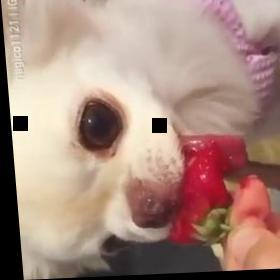nasal_discharge: (128, 193, 164, 222)
